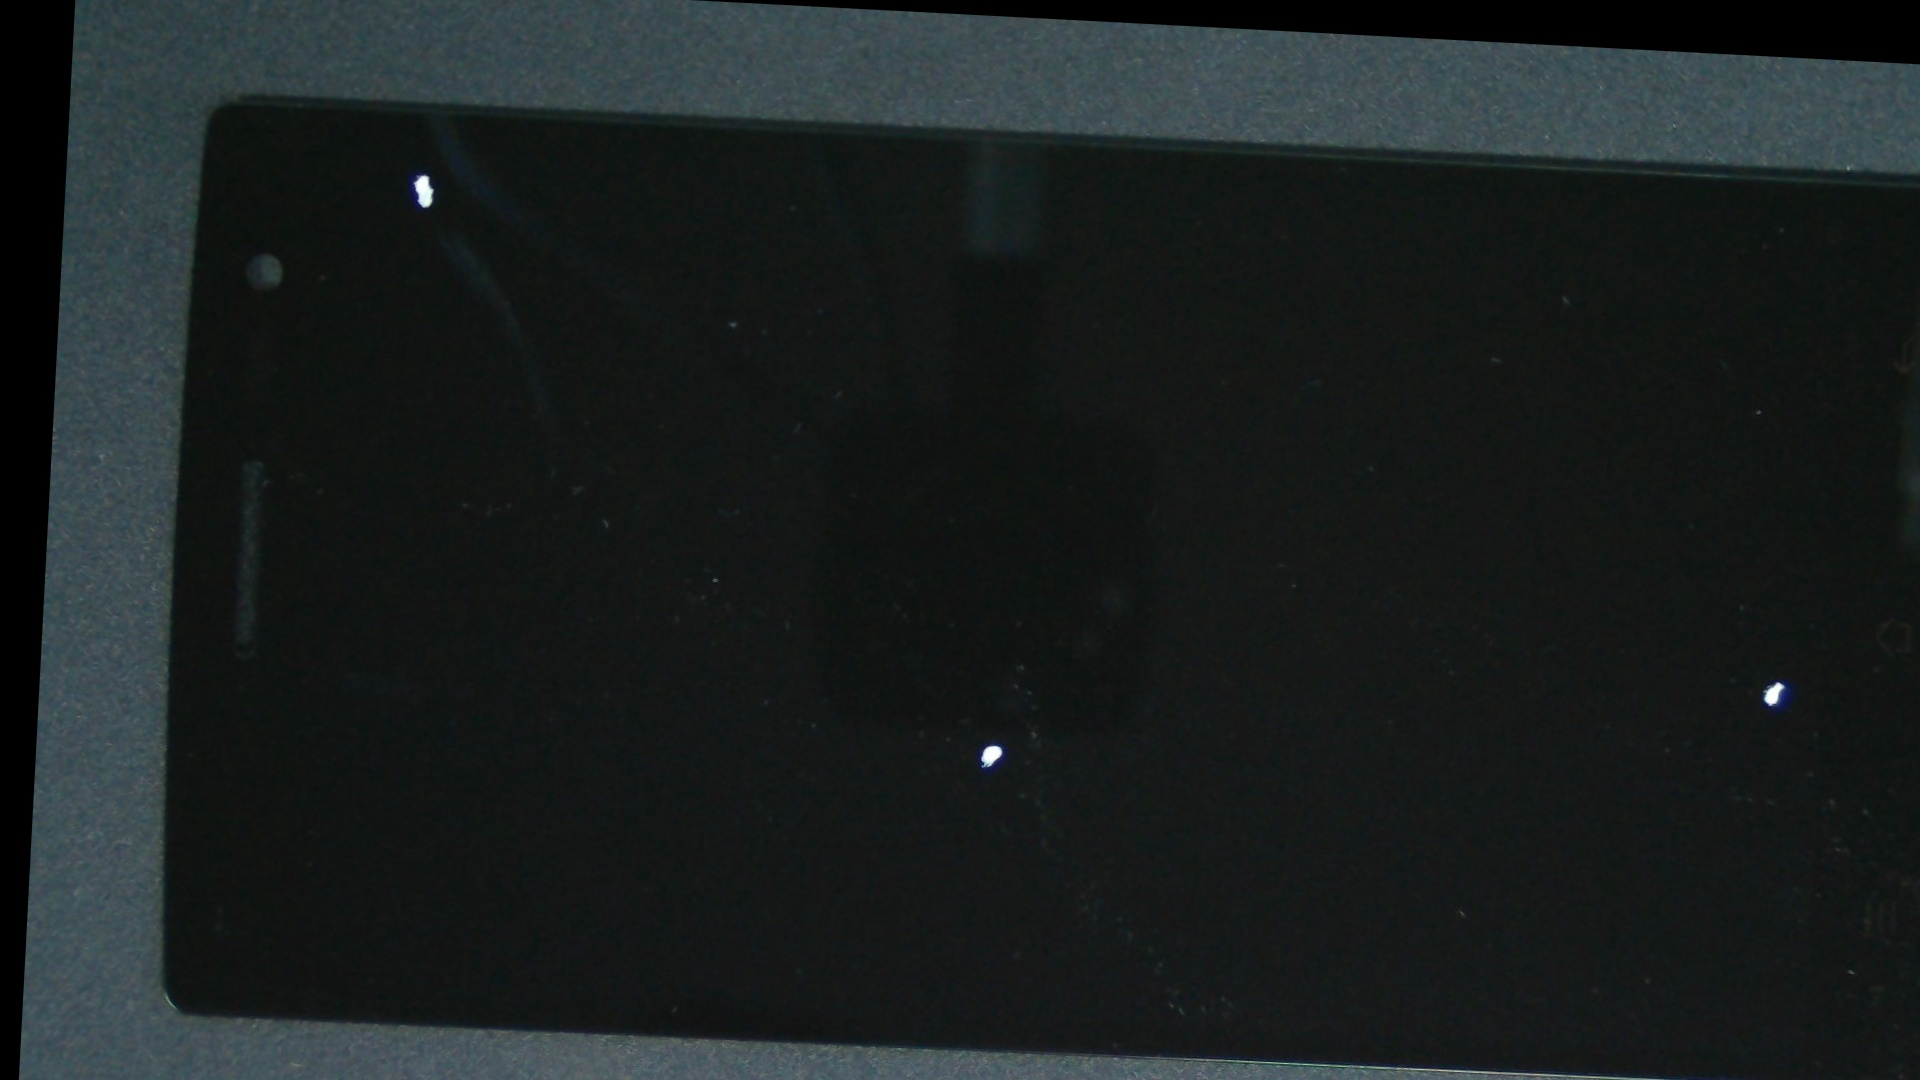oil: (496, 355, 1484, 1080), (895, 323, 1920, 1007), (241, 70, 607, 276)
